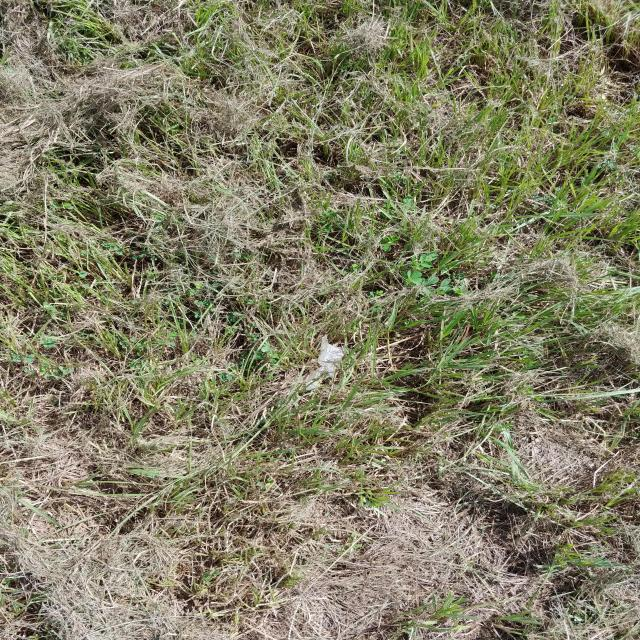litter: (298, 334, 350, 392)
